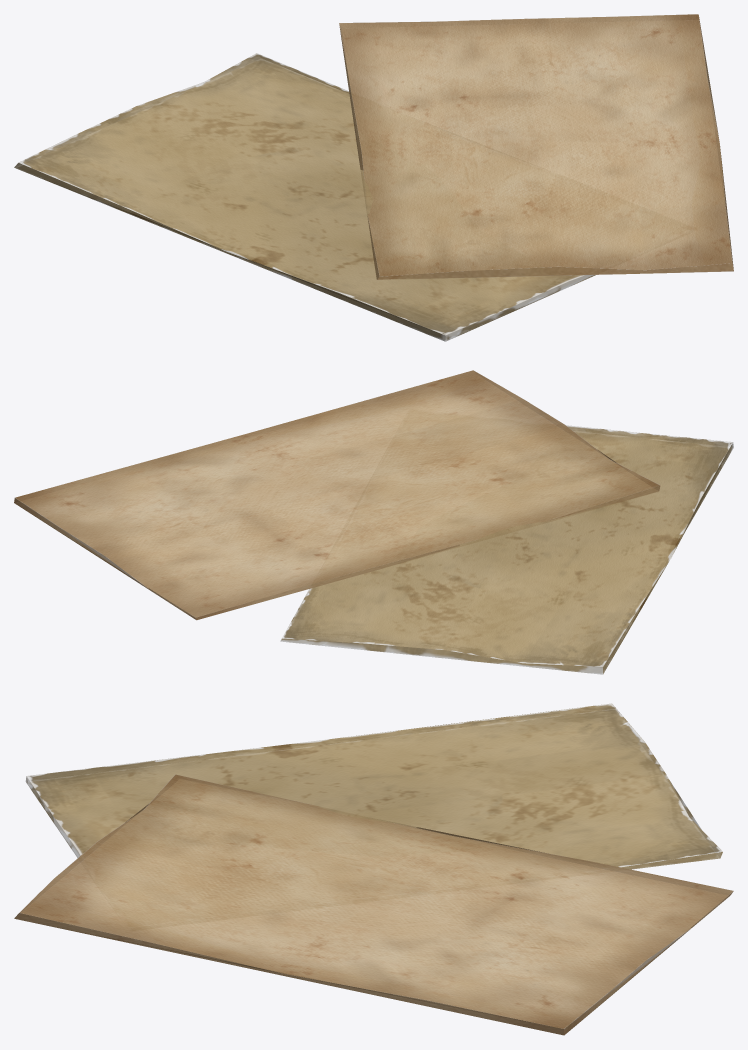
The model's file is Papers_used.glb.
3 views of the same model, one above another, from view 1: azimuth 30°, elevation 25°; view 2: azimuth 150°, elevation 25°; view 3: azimuth 270°, elevation 25° (orthographic). The views are drawn at different scales.
Visible parts, largest first — view 1: Cube.007_Cube.029; view 2: Cube.007_Cube.029; view 3: Cube.007_Cube.029.
Boxes of the visible parts, box(x1,y1,x2,y2) form: Cube.007_Cube.029: box(14, 14, 733, 341); Cube.007_Cube.029: box(14, 370, 733, 674); Cube.007_Cube.029: box(14, 703, 733, 1035).
Bounding box in the file's own units: 1.28 × 0.0254 × 1.17.
Materials: 1 (1 with a texture image).
